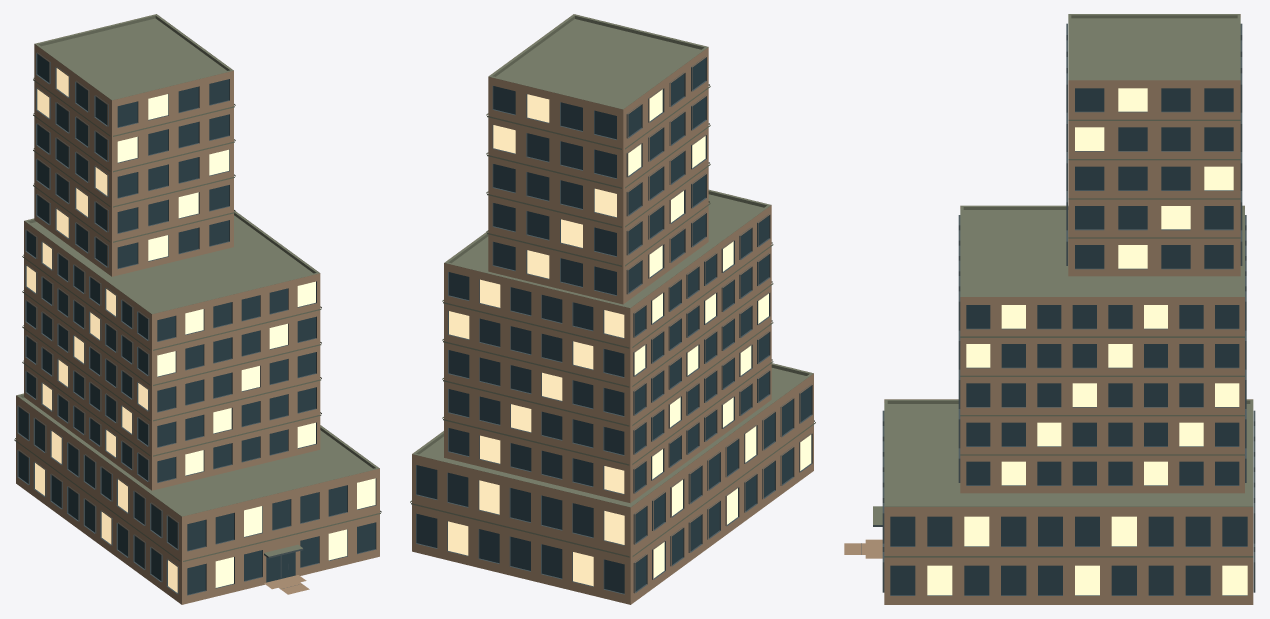
The model's file is city-block-commercial.glb.
3 renders of one model, left to right at view 1: azimuth 30°, elevation 25°; view 2: azimuth 150°, elevation 25°; view 3: azimuth 270°, elevation 25°, orthographic. The views are drawn at different scales.
Visible parts, largest first — view 1: commercial_lod0; view 2: commercial_lod0; view 3: commercial_lod0.
Boxes of the visible parts, left/top/right/bottom form: commercial_lod0: left=14, top=14, right=381, bottom=604; commercial_lod0: left=410, top=14, right=815, bottom=604; commercial_lod0: left=844, top=14, right=1255, bottom=604.
Size of what is drawn, in the model's own units: 22.06 by 46.16 by 35.08.
5 materials, 1 textured.
